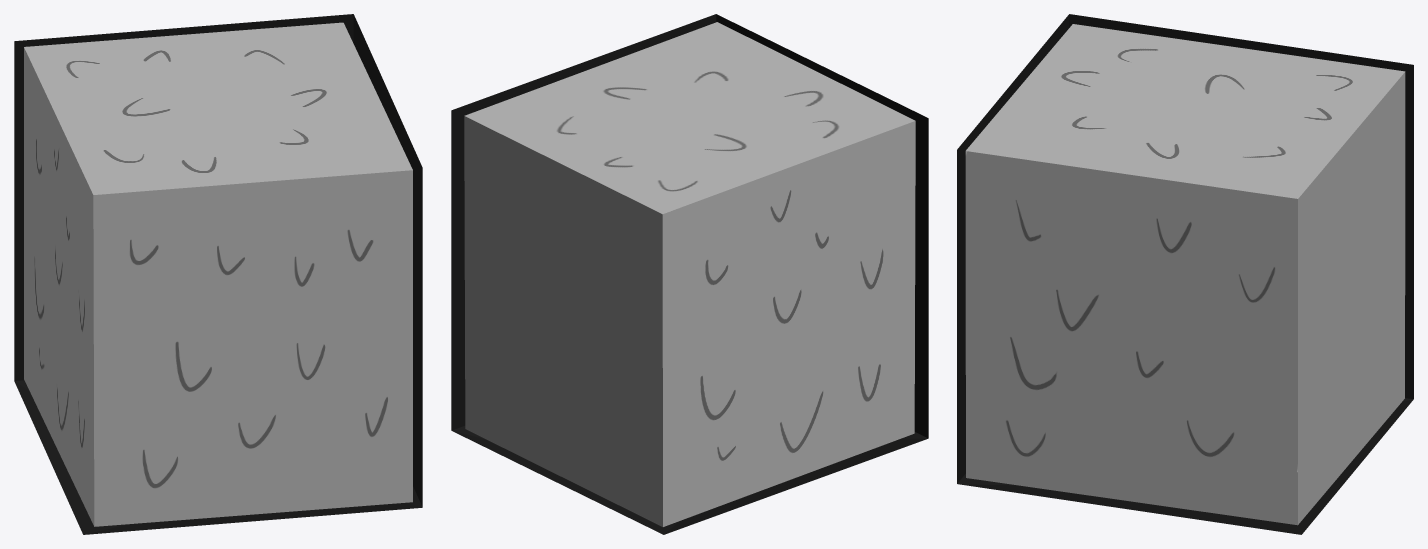
Rendered from Planta2.fbx.
The picture shows the model from 3 angles, left to right: view 1: azimuth 30°, elevation 25°; view 2: azimuth 150°, elevation 25°; view 3: azimuth 270°, elevation 25°; orthographic projection. The views are drawn at different scales.
Visible parts, largest first — view 1: Cube.002; view 2: Cube.002; view 3: Cube.002.
Boxes of the visible parts, bbox=[...] form: Cube.002: bbox=[14, 14, 422, 534]; Cube.002: bbox=[451, 14, 928, 534]; Cube.002: bbox=[957, 14, 1413, 534].
Bounding box in the file's own units: 53.18 × 47.05 × 55.03.
